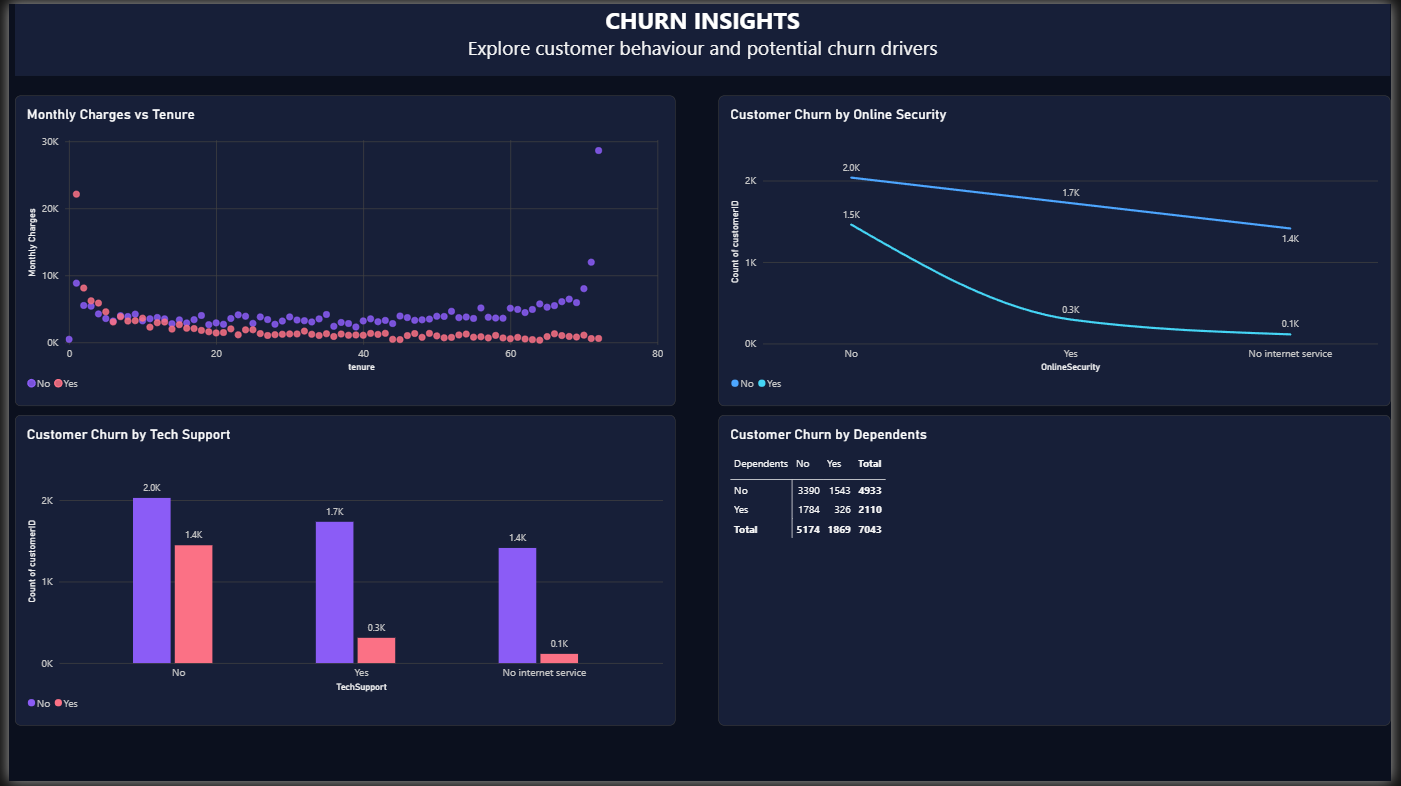

The dashboard page shown, as its layout file describes it:
{"tool":"powerbi","page":{"name":"churn insights","canvas":[1920,1080],"ordinal":3},"visuals":[{"type":"shape","box":[9.1,0,1910.2,99.9],"z":0},{"type":"textbox","box":[9.1,0,1910.2,99.9],"z":1},{"type":"scatterChart","title":"Monthly Charges vs Tenure","fields":{"Series":["Telco-Customer-Churn.Churn"],"X":["Telco-Customer-Churn.tenure"],"Y":["Telco-Customer-Churn.Monthly Charges"]},"box":[9.1,127.2,917.6,431.5],"z":2},{"type":"clusteredColumnChart","title":"Customer Churn by Tech Support","fields":{"Category":["Telco-Customer-Churn.TechSupport"],"Series":["Telco-Customer-Churn.Churn"],"Y":["CountNonNull(Telco-Customer-Churn.customerID)"]},"box":[9.1,570.1,917.6,431.5],"z":3},{"type":"lineChart","title":"Customer Churn by Online Security","fields":{"Category":["Telco-Customer-Churn.OnlineSecurity"],"Series":["Telco-Customer-Churn.Churn"],"Y":["Count(Telco-Customer-Churn.customerID)"]},"box":[985.7,127.2,933.5,431.5],"z":4},{"type":"pivotTable","title":"Customer Churn by Dependents","fields":{"Columns":["Telco-Customer-Churn.Churn"],"Rows":["Telco-Customer-Churn.Dependents"],"Values":["Count(Telco-Customer-Churn.customerID)"]},"box":[985.7,570.1,933.5,431.5],"z":5}]}

Visuals, with their boxes in screenshot pixels (x1, y1, x2, y2), scaled from the page's 1920x1080 canvas onto the 1401x786 screenshot:
shape: box(7, 0, 1400, 73)
textbox: box(7, 0, 1400, 73)
"Monthly Charges vs Tenure" scatterChart: box(7, 93, 676, 407)
"Customer Churn by Tech Support" clusteredColumnChart: box(7, 415, 676, 729)
"Customer Churn by Online Security" lineChart: box(719, 93, 1400, 407)
"Customer Churn by Dependents" pivotTable: box(719, 415, 1400, 729)
